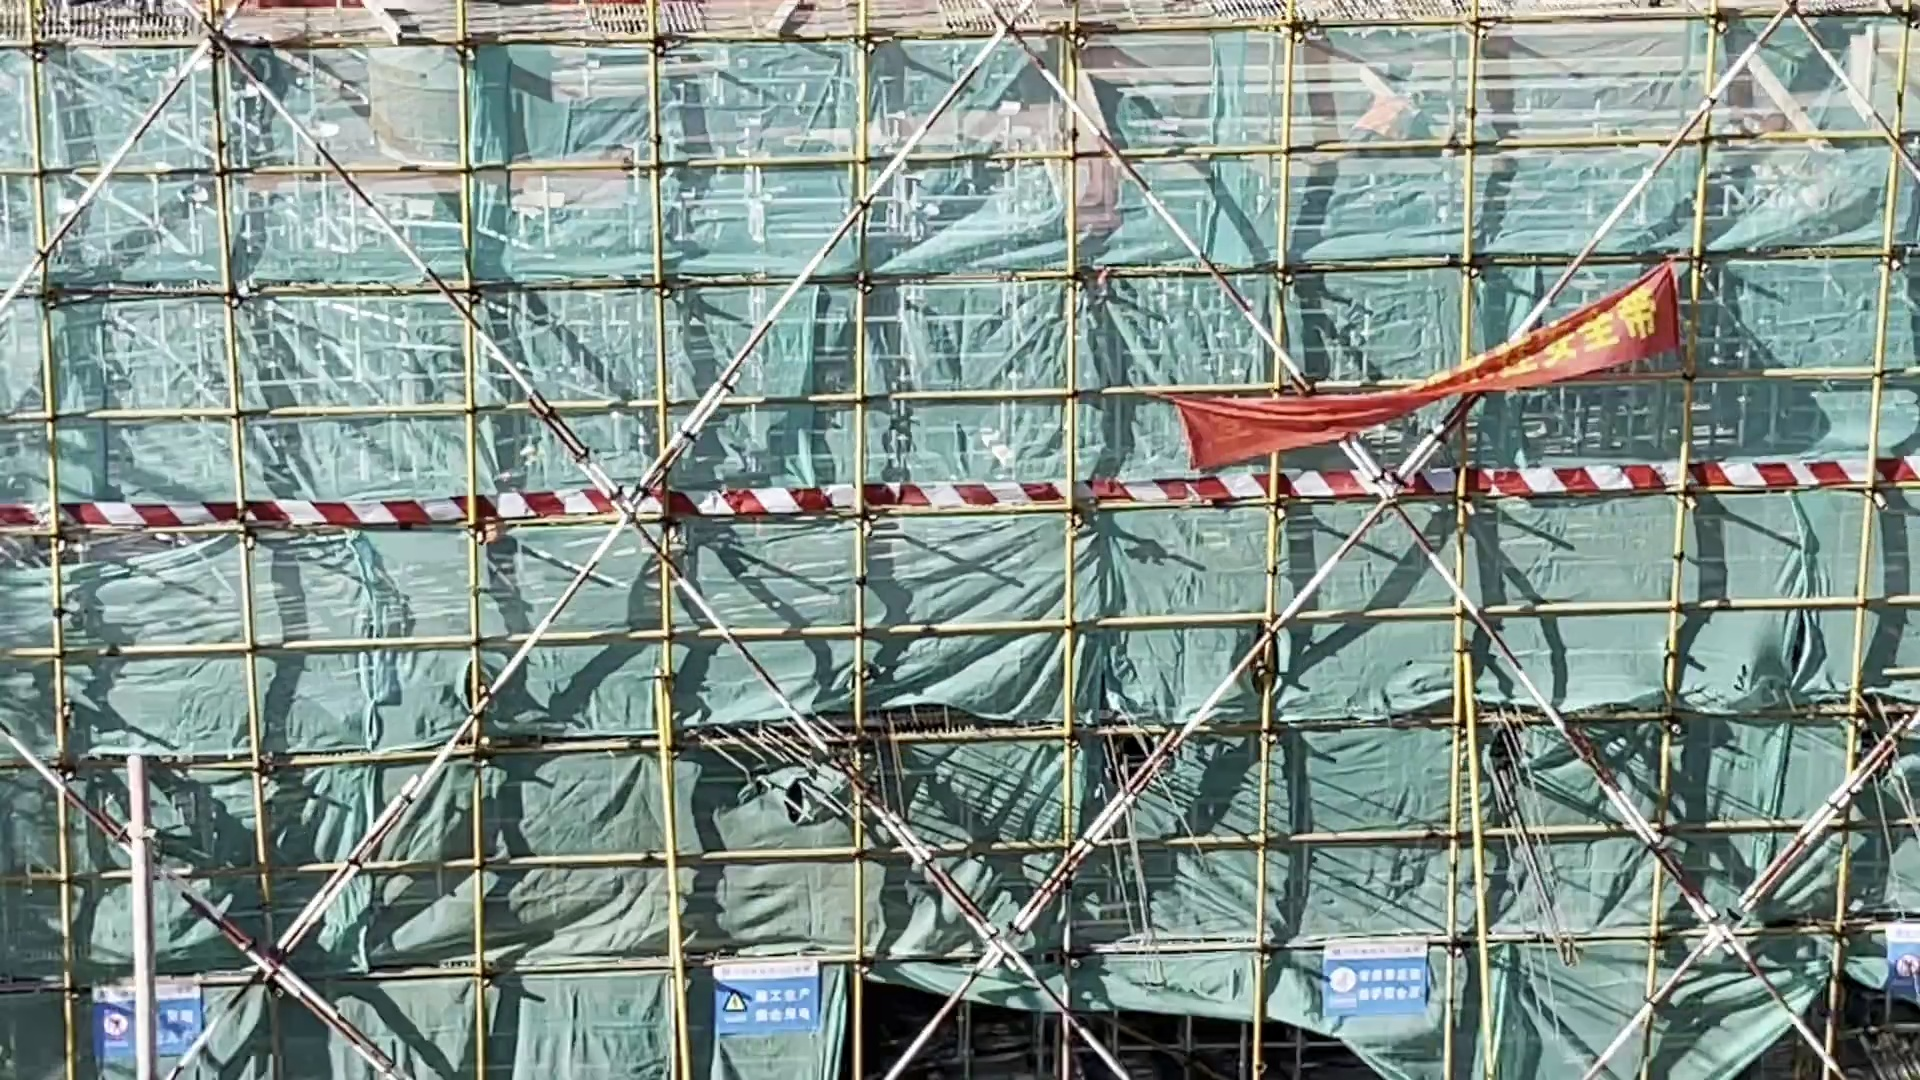slogan: (1162, 243, 1720, 493), (1313, 916, 1439, 1030), (705, 940, 840, 1042), (80, 976, 222, 1068), (1887, 895, 1920, 1004)
